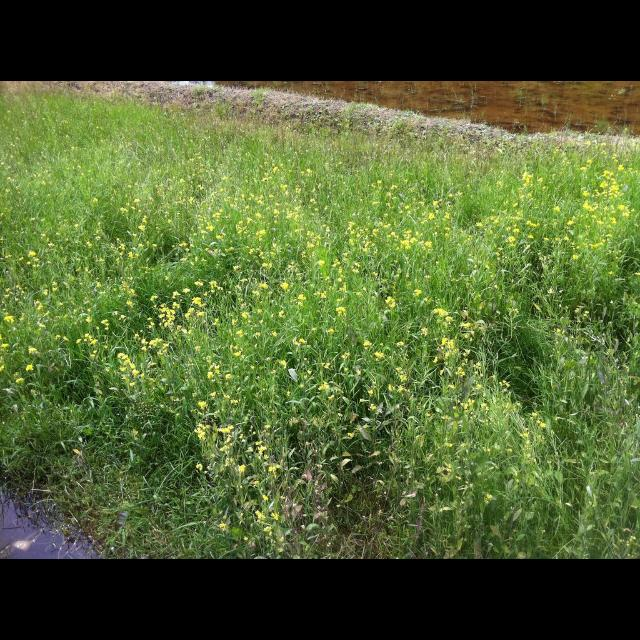Flower: (1, 146, 640, 558)
